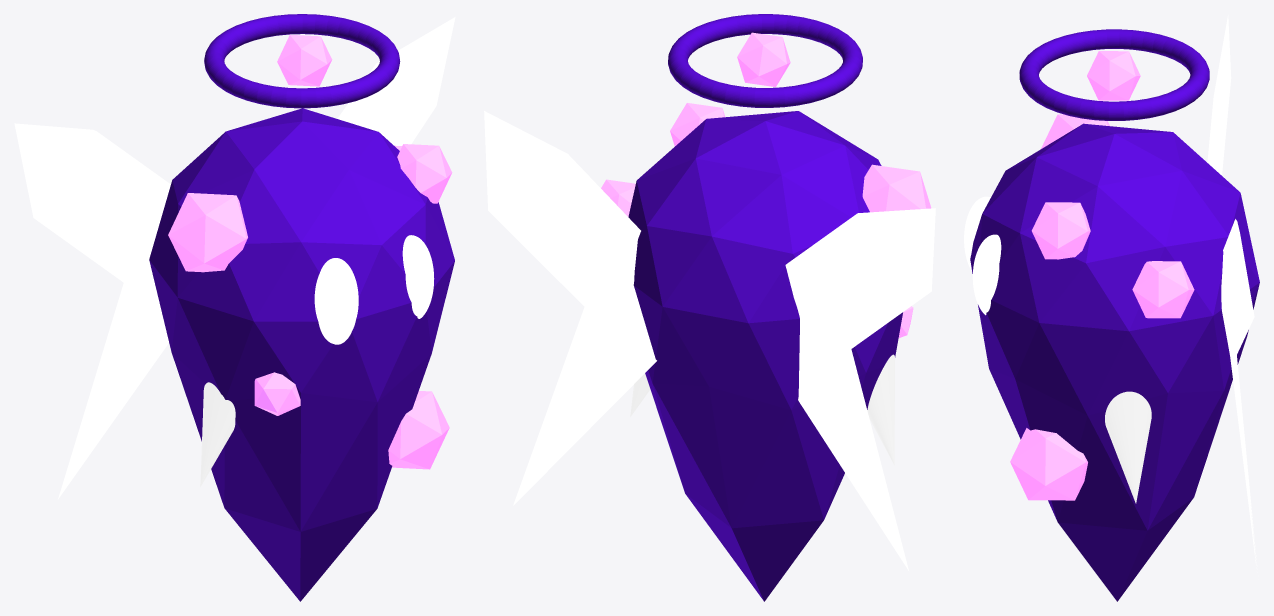
Rendered from Forma_GlitchLuz.glb.
3 renders of one model, left to right at view 1: azimuth 30°, elevation 25°; view 2: azimuth 150°, elevation 25°; view 3: azimuth 270°, elevation 25°, orthographic. The views are drawn at different scales.
Visible parts, largest first — view 1: Icosphere.001, Icosphere.003, Icosphere.002, Torus, Icosphere, Cone; view 2: Icosphere.001, Icosphere.003, Torus, Icosphere.002, Cone; view 3: Icosphere.001, Icosphere.002, Torus, Icosphere.003, Cone, Icosphere.
Boxes of the visible parts, x1=… form: Icosphere.001: x1=149, y1=108, x2=454, y2=601; Icosphere.003: x1=14, y1=17, x2=455, y2=499; Icosphere.002: x1=168, y1=34, x2=452, y2=469; Torus: x1=204, y1=14, x2=400, y2=108; Icosphere: x1=314, y1=235, x2=434, y2=344; Cone: x1=200, y1=382, x2=235, y2=486; Icosphere.001: x1=628, y1=111, x2=902, y2=601; Icosphere.003: x1=484, y1=111, x2=935, y2=570; Torus: x1=668, y1=14, x2=862, y2=107; Icosphere.002: x1=601, y1=32, x2=931, y2=337; Cone: x1=630, y1=354, x2=894, y2=465; Icosphere.001: x1=970, y1=123, x2=1259, y2=601; Icosphere.002: x1=1010, y1=51, x2=1194, y2=500; Torus: x1=1019, y1=29, x2=1209, y2=120; Icosphere.003: x1=1207, y1=15, x2=1257, y2=572; Cone: x1=1105, y1=391, x2=1151, y2=503; Icosphere: x1=964, y1=196, x2=1001, y2=315.
Bounding box in the file's own units: 2.05 × 2.48 × 1.21.
